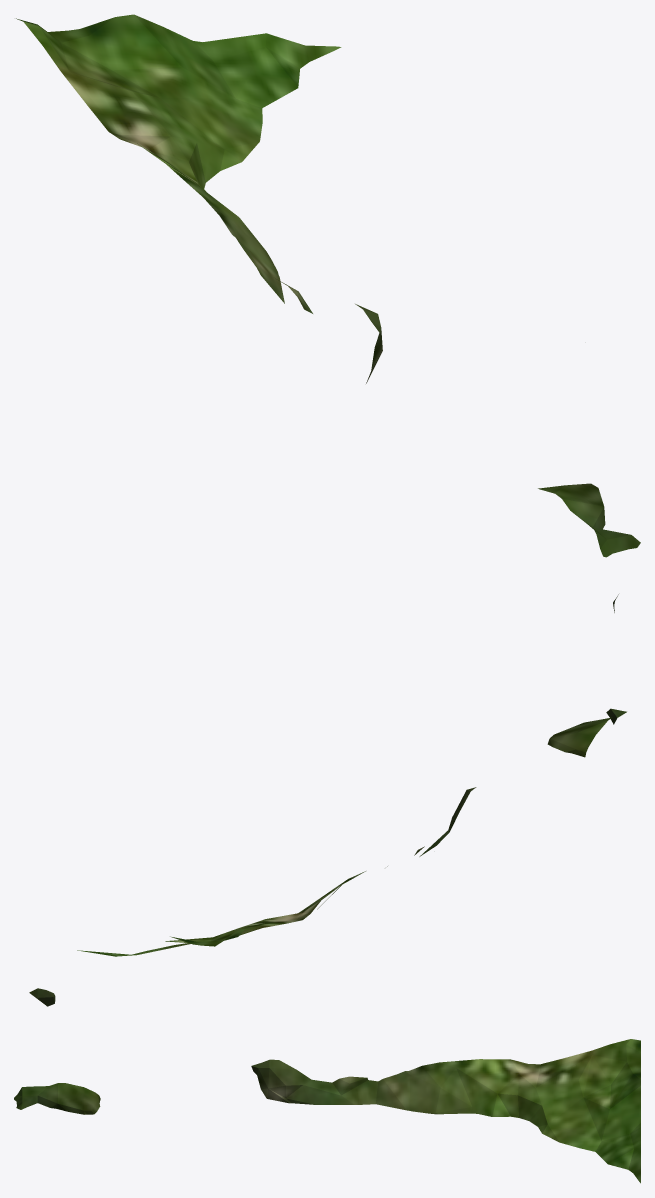
3 renders of one model, top to bottom at view 1: azimuth 30°, elevation 25°; view 2: azimuth 150°, elevation 25°; view 3: azimuth 270°, elevation 25°, orthographic. The views are drawn at different scales.
Size of the model in its own units: 0.5381 by 0.3253 by 1.67.
1 material, 1 textured.
